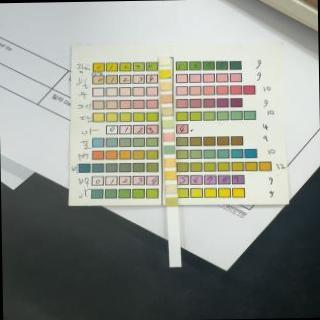mark: (164, 170, 177, 180), (160, 81, 172, 91), (166, 196, 177, 206), (165, 184, 176, 194), (164, 158, 175, 168), (163, 144, 174, 154), (163, 132, 174, 142), (163, 119, 174, 129), (160, 94, 172, 103), (159, 69, 171, 78), (158, 56, 170, 65), (162, 107, 172, 116)
